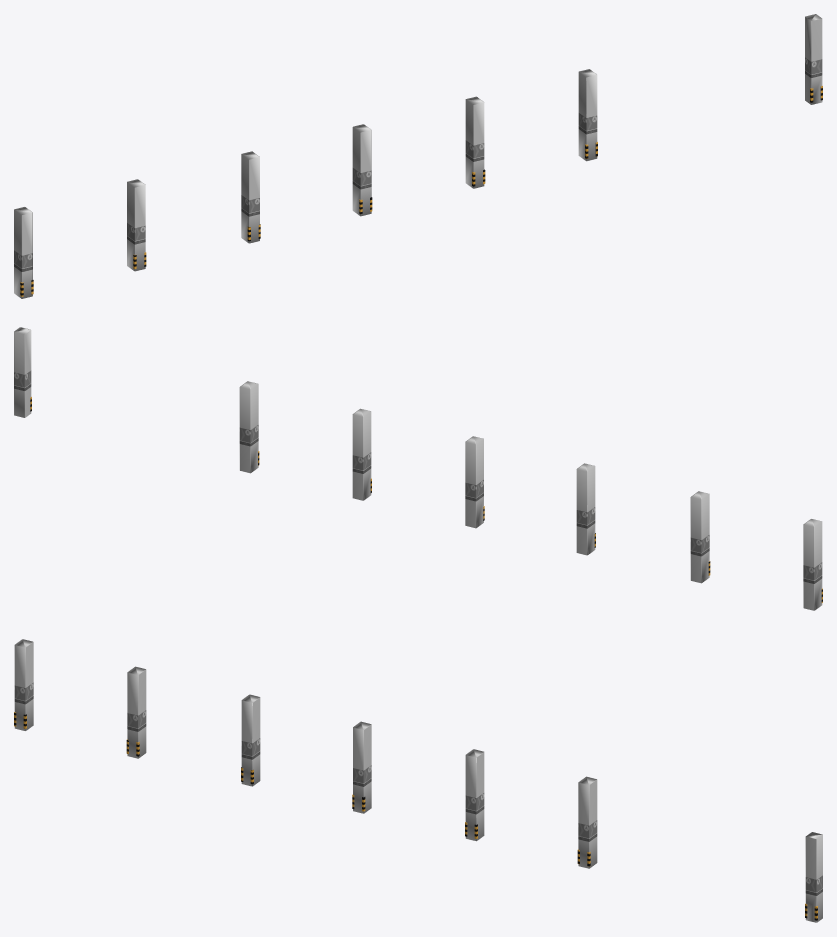
Rendered from WPLPillars02.fbx.
3 views of the same model, one above another, from view 1: azimuth 30°, elevation 25°; view 2: azimuth 150°, elevation 25°; view 3: azimuth 330°, elevation 25° (orthographic).
Visible parts, largest first — view 1: Pillars 02.Shape; view 2: Pillars 02.Shape; view 3: Pillars 02.Shape.
Boxes of the visible parts, x1,y1,x2,y2 form: Pillars 02.Shape: [14, 14, 822, 298]; Pillars 02.Shape: [14, 327, 822, 610]; Pillars 02.Shape: [14, 639, 822, 922].
Size of the model in its own units: 6389 by 636 by 115.
Materials: 4 (3 with a texture image).
